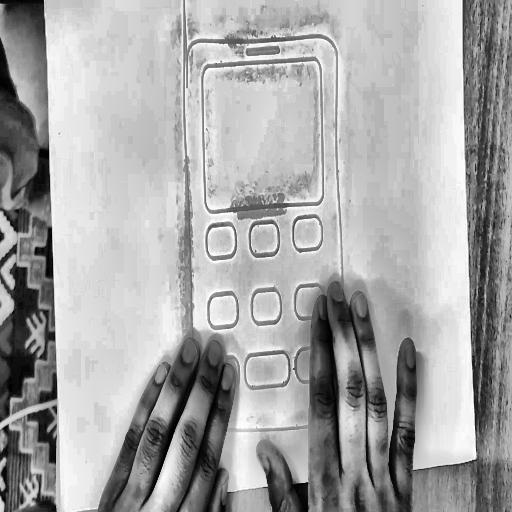bottom_right: (472, 452, 480, 464)
mobile: (172, 0, 362, 450)
